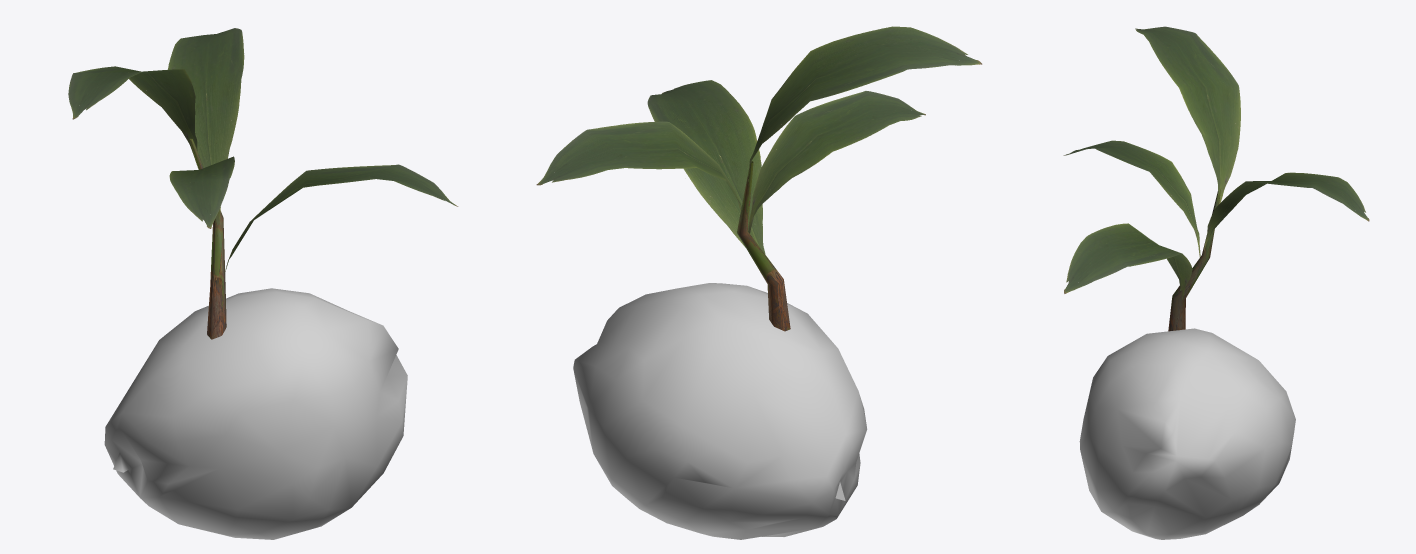
File: Coconut_plant1.fbx
The picture shows the model from 3 angles, left to right: view 1: azimuth 30°, elevation 25°; view 2: azimuth 150°, elevation 25°; view 3: azimuth 270°, elevation 25°; orthographic projection. The views are drawn at different scales.
Visible parts, largest first — view 1: LOD0; view 2: LOD0; view 3: LOD0.
Part boxes in pixels (x1,y1,x2,y2): LOD0: [68, 28, 458, 539]; LOD0: [536, 26, 982, 539]; LOD0: [1063, 26, 1369, 539].
Size of what is drawn, in the model's own units: 89.83 by 104 by 81.76.
